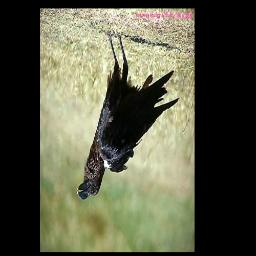Crow: (76, 32, 179, 201)
